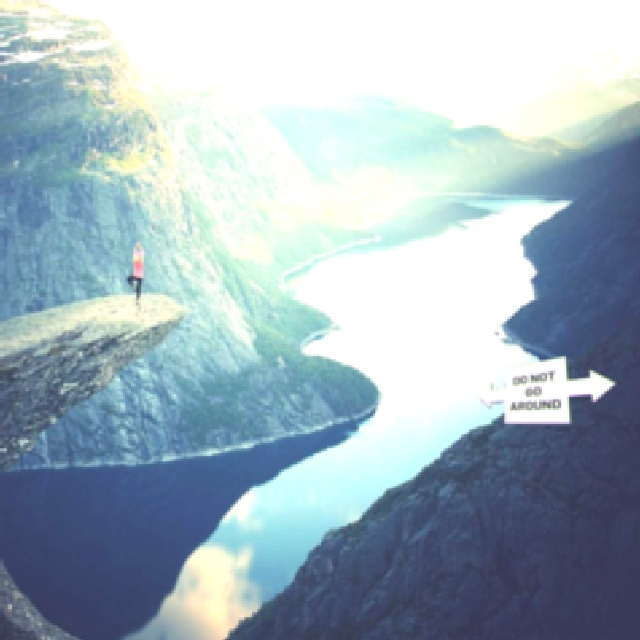DO_NOT_GO_AROUND: (477, 354, 616, 423)
